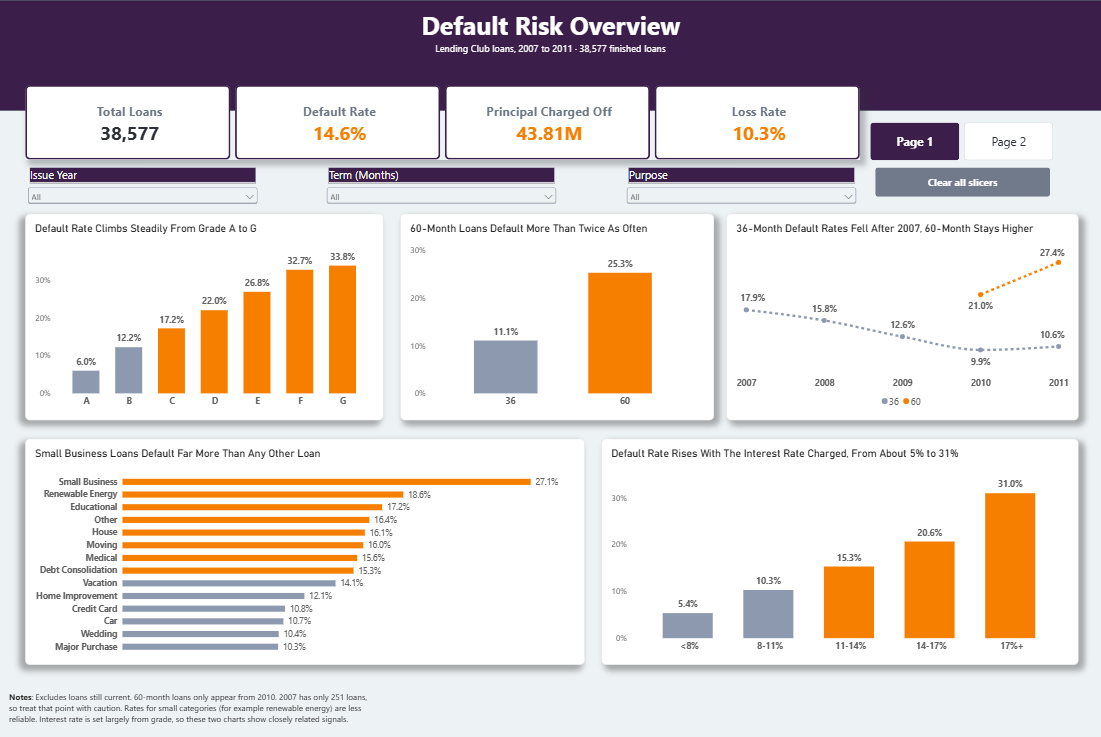

Layout of this report page (visuals, bound fields, positions):
{"tool":"powerbi","page":{"name":"Page 1","canvas":[1890,1280],"ordinal":0},"visuals":[{"type":"shape","box":[0,0,1920,190],"z":0},{"type":"textbox","box":[748,70,477.5,50],"z":1000},{"type":"textbox","box":[725,13.3,471.7,66.7],"z":2000},{"type":"cardVisual","fields":{"Data":["loan_clean.Total Loans","loan_clean.Default Rate","loan_clean.Principal Charged Off","loan_clean.Loss Rate"]},"box":[44,146,1432,128],"z":3000},{"type":"slicer","title":"Term","fields":{"Values":["loan_clean.term"]},"box":[558,288,403.3,78.3],"z":4000},{"type":"slicer","title":"Term","fields":{"Values":["loan_clean.purpose"]},"box":[1072,288,403.3,78.3],"z":5000},{"type":"slicer","title":"Term","fields":{"Values":["loan_clean.issue_year"]},"box":[44,288,403.3,78.3],"z":6000},{"type":"pageNavigator","box":[1495,210,315,65],"z":7000},{"type":"actionButton","box":[1503.3,288.3,300,50],"z":8000},{"type":"clusteredColumnChart","title":"Default Rate Climbs Steadily From Grade A to G","fields":{"Category":["loan_clean.grade"],"Y":["loan_clean.Default Rate"]},"box":[46,366,614,354],"z":9000},{"type":"clusteredColumnChart","title":"60-Month Loans Default More Than Twice As Often","fields":{"Category":["loan_clean.term"],"Y":["loan_clean.Default Rate"]},"box":[688,366,538,354],"z":10000},{"type":"clusteredBarChart","title":"Small Business Loans Default Far More Than Any Other Loan","fields":{"Category":["loan_clean.purpose"],"Y":["loan_clean.Default Rate"]},"box":[44,752,960,388],"z":11000},{"type":"clusteredColumnChart","title":"Default Rate Rises With The Interest Rate Charged, From About 5% to 31%","fields":{"Category":["loan_clean.int_rate_band"],"Y":["loan_clean.Default Rate"]},"box":[1034,752,818,388],"z":12000},{"type":"lineChart","title":"36-Month Default Rates Fell After 2007, 60-Month Stays Higher","fields":{"Category":["loan_clean.issue_year"],"Series":["loan_clean.term"],"Y":["loan_clean.Default Rate"]},"box":[1248,366,604,354],"z":13000},{"type":"textbox","box":[16.7,1186.7,628.3,65],"z":14000}]}

Visuals, with their boxes in screenshot pixels (x1, y1, x2, y2), scaled from the page's 1890x1280 canvas onto the 1101x737 screenshot:
shape: {"x1": 0, "y1": 0, "x2": 1100, "y2": 109}
textbox: {"x1": 436, "y1": 40, "x2": 714, "y2": 69}
textbox: {"x1": 422, "y1": 8, "x2": 697, "y2": 46}
cardVisual - loan_clean.Total Loans x loan_clean.Default Rate: {"x1": 26, "y1": 84, "x2": 860, "y2": 158}
"Term" slicer: {"x1": 325, "y1": 166, "x2": 560, "y2": 211}
"Term" slicer: {"x1": 624, "y1": 166, "x2": 859, "y2": 211}
"Term" slicer: {"x1": 26, "y1": 166, "x2": 261, "y2": 211}
pageNavigator: {"x1": 871, "y1": 121, "x2": 1054, "y2": 158}
actionButton: {"x1": 876, "y1": 166, "x2": 1050, "y2": 195}
"Default Rate Climbs Steadily From Grade A to G" clusteredColumnChart: {"x1": 27, "y1": 211, "x2": 384, "y2": 415}
"60-Month Loans Default More Than Twice As Often" clusteredColumnChart: {"x1": 401, "y1": 211, "x2": 714, "y2": 415}
"Small Business Loans Default Far More Than Any Other Loan" clusteredBarChart: {"x1": 26, "y1": 433, "x2": 585, "y2": 656}
"Default Rate Rises With The Interest Rate Charged, From About 5% to 31%" clusteredColumnChart: {"x1": 602, "y1": 433, "x2": 1079, "y2": 656}
"36-Month Default Rates Fell After 2007, 60-Month Stays Higher" lineChart: {"x1": 727, "y1": 211, "x2": 1079, "y2": 415}
textbox: {"x1": 10, "y1": 683, "x2": 376, "y2": 721}
